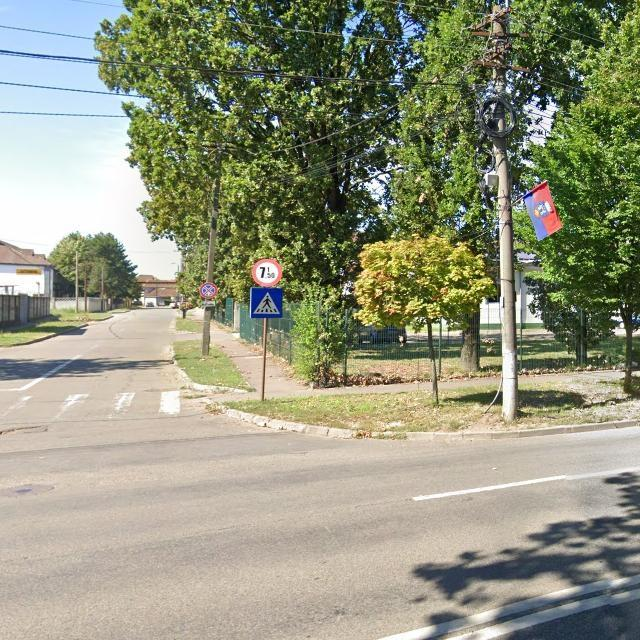forb_waiting: (200, 282, 218, 299)
info_crosswalk: (250, 286, 283, 318)
